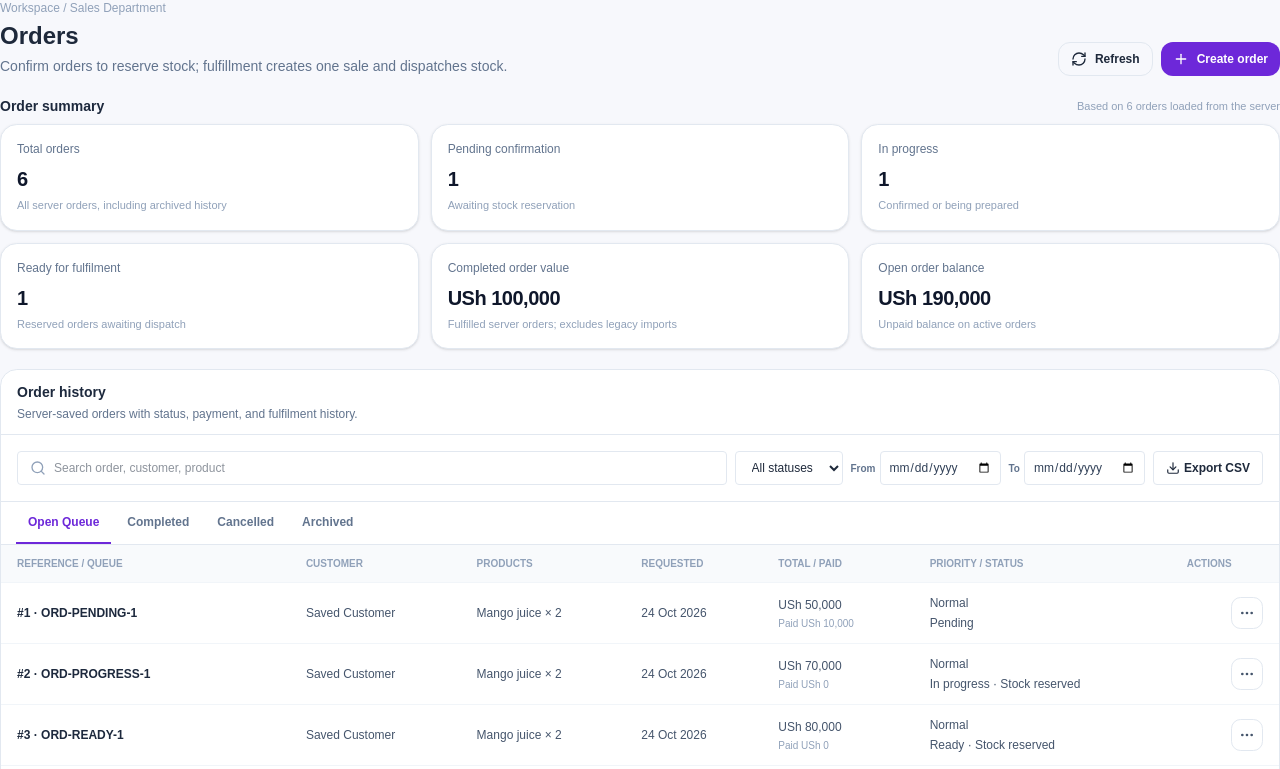
Test: orders-management › shows detailed payment and status history for an order
Click the button named "Actions for ORD-PENDING-1" at [1247, 613], box [1231,597,1263,629]
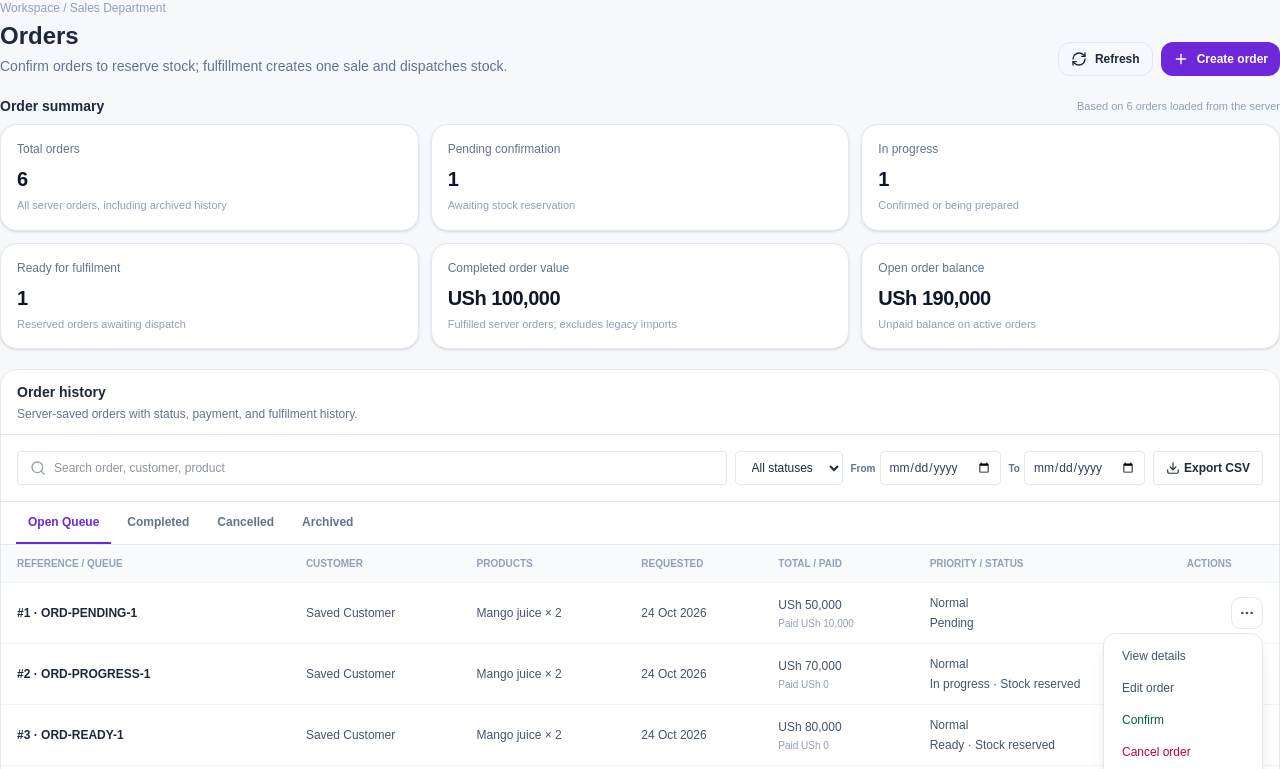
Click the menu item "View details" at [1183, 656], box [1110,640,1256,672]
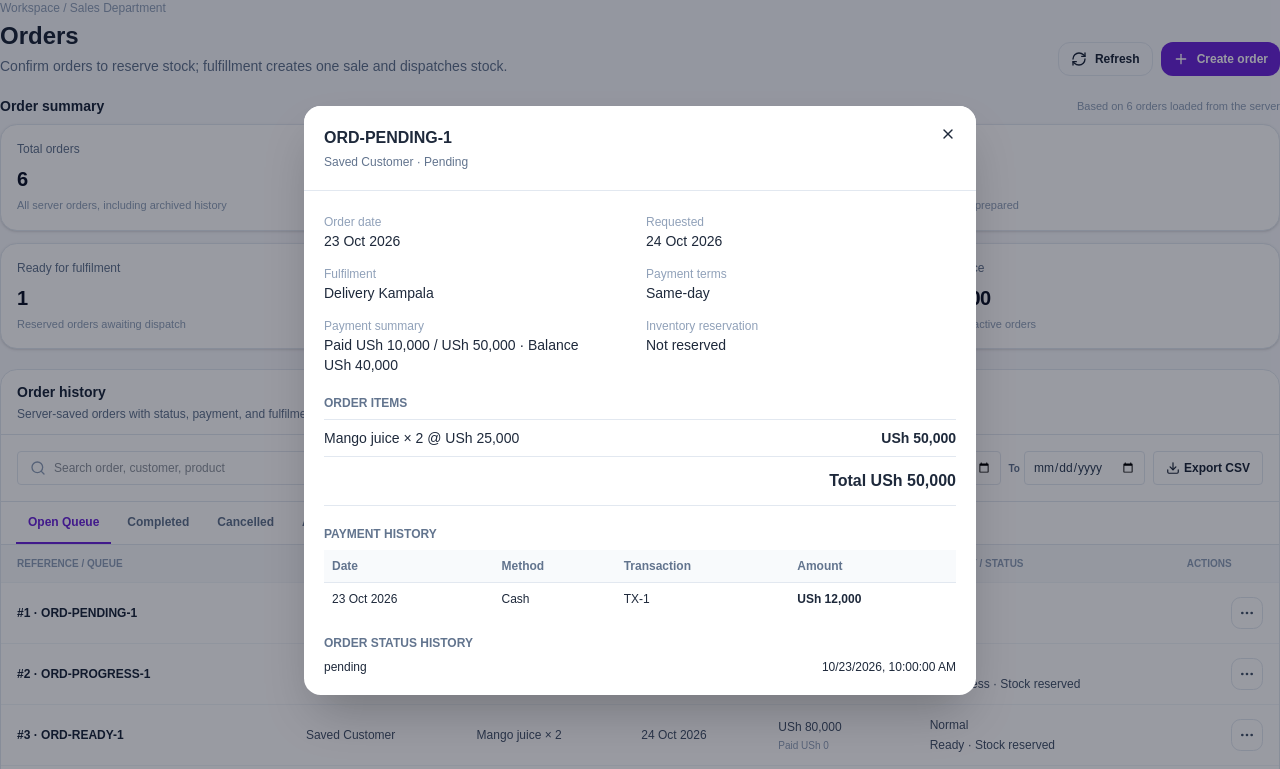
Now the heading "Payment history" is shown, box [324,526,437,540]
Now the text "TX-1" is shown, box [616,582,789,614]
Now the text "pending" is shown, box [324,658,367,674]
